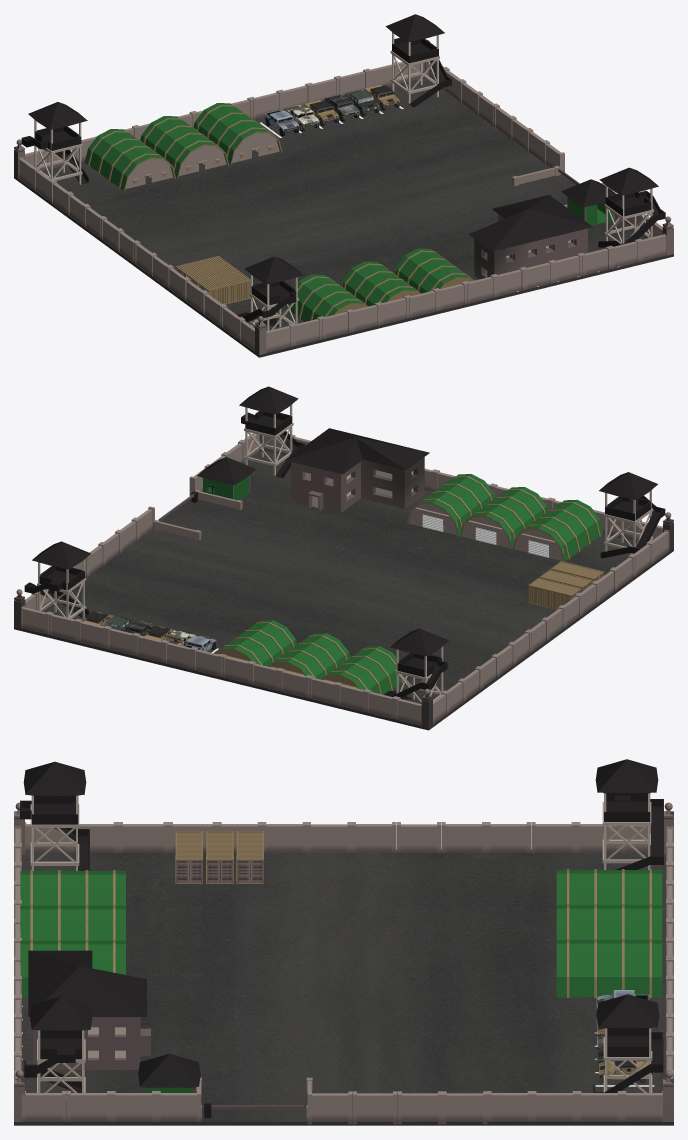
File: robotmainaskeriye.fbx
3 views of the same model, one above another, from view 1: azimuth 30°, elevation 25°; view 2: azimuth 150°, elevation 25°; view 3: azimuth 270°, elevation 25° (orthographic). The views are drawn at different scales.
Parts seen in each view (by area): view 1: Cube.020, Cube.141, Cylinder.063, Cylinder.062, Cylinder.061, Cylinder.068, Cylinder.066, Cylinder.064, Conainer, Cube.106, Cube.120, Cube.093 (+38 smaller); view 2: Cube.020, Cube.141, Cylinder.068, Cylinder.066, Cylinder.064, Cylinder.063, Cylinder.062, Cylinder.061, Conainer.002, Cube.106, Cube.080, Cube.093 (+26 smaller); view 3: Cube.020, Cube.141, Cylinder.061, Cylinder.064, Cylinder.062, Cylinder.063, Cylinder.068, Cylinder.066, Cube.106, Cube.093, Cube.080, Cube.134 (+37 smaller).
Part boxes in pixels (left/top/right/bottom): Cube.020: left=14, top=78, right=673, bottom=357; Cube.141: left=469, top=195, right=592, bottom=279; Cylinder.063: left=84, top=129, right=175, bottom=190; Cylinder.062: left=140, top=116, right=229, bottom=177; Cylinder.061: left=193, top=103, right=282, bottom=165; Cylinder.068: left=285, top=274, right=367, bottom=321; Cylinder.066: left=393, top=248, right=473, bottom=293; Cylinder.064: left=340, top=261, right=420, bottom=306; Conainer: left=198, top=272, right=250, bottom=304; Cube.106: left=28, top=102, right=87, bottom=129; Cube.120: left=244, top=256, right=303, bottom=284; Cube.093: left=386, top=14, right=444, bottom=42; Cube.020: left=14, top=451, right=673, bottom=730; Cube.141: left=285, top=428, right=429, bottom=512; Cylinder.068: left=512, top=499, right=603, bottom=561; Cylinder.066: left=406, top=474, right=495, bottom=536; Cylinder.064: left=459, top=487, right=547, bottom=548; Cylinder.063: left=321, top=646, right=405, bottom=694; Cylinder.062: left=268, top=633, right=350, bottom=679; Cylinder.061: left=215, top=620, right=297, bottom=666; Conainer.002: left=528, top=577, right=581, bottom=610; Cube.106: left=390, top=628, right=449, bottom=656; Cube.080: left=239, top=386, right=298, bottom=414; Cube.093: left=32, top=541, right=91, bottom=569; Cube.020: left=14, top=850, right=673, bottom=1125; Cube.141: left=28, top=950, right=150, bottom=1069; Cylinder.061: left=556, top=939, right=662, bottom=997; Cylinder.064: left=20, top=904, right=125, bottom=940; Cylinder.062: left=556, top=904, right=662, bottom=943; Cylinder.063: left=556, top=869, right=662, bottom=908; Cylinder.068: left=20, top=870, right=125, bottom=905; Cylinder.066: left=20, top=939, right=125, bottom=997; Cube.106: left=595, top=759, right=658, bottom=793; Cube.093: left=596, top=994, right=659, bottom=1028; Cube.080: left=30, top=996, right=92, bottom=1030; Cube.134: left=138, top=1053, right=200, bottom=1087.
Bounding box in the file's own units: 33.68 × 6.43 × 34.47.
